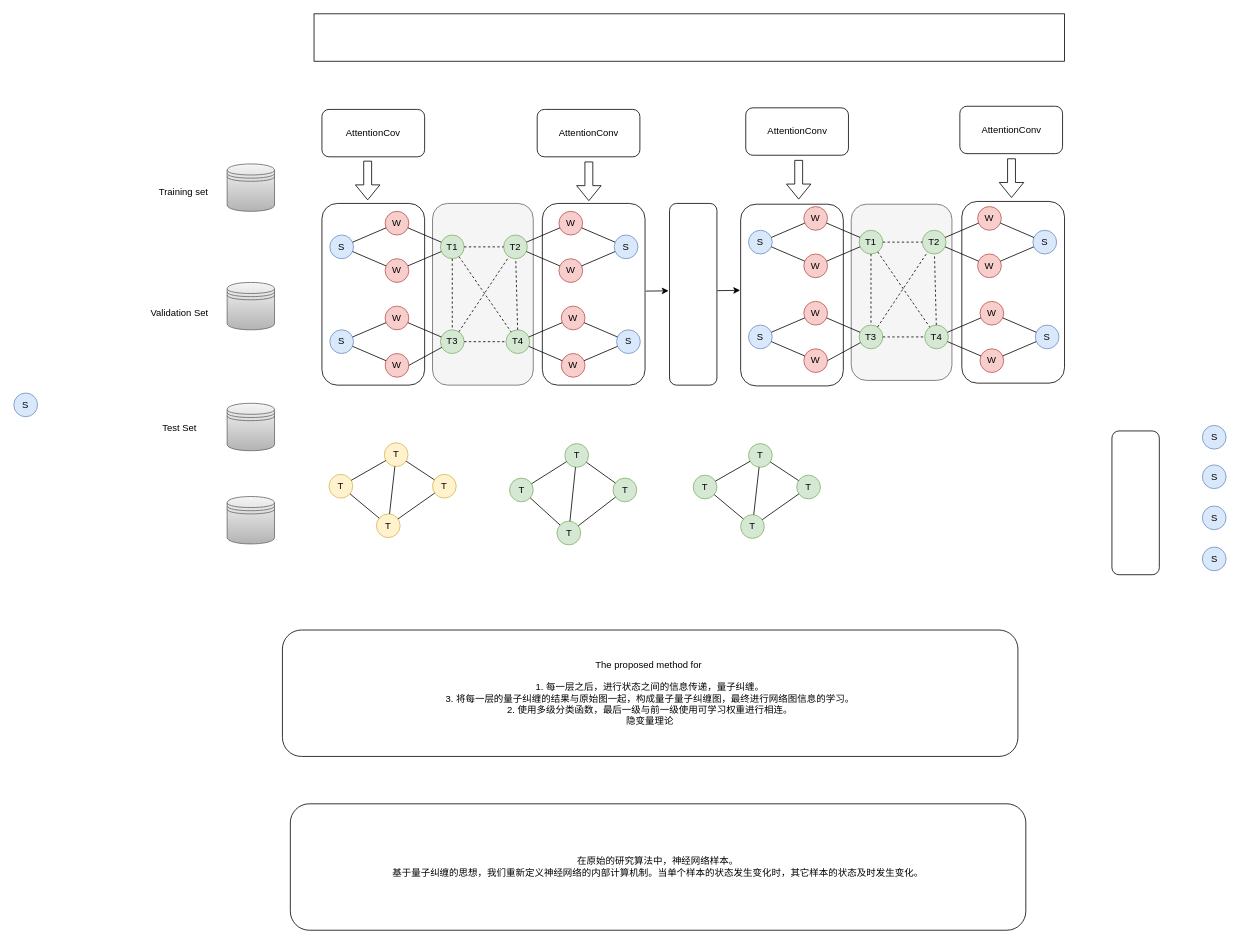
Image size: 1240x944. Some labels were removed from this diagram. Each missing label, with the box of its shape:
Flexibly Graph Attention Neural Networks: (313, 13, 1065, 61)
Non-linear Activation: (669, 203, 717, 385)
Softamx: (1111, 430, 1159, 575)
